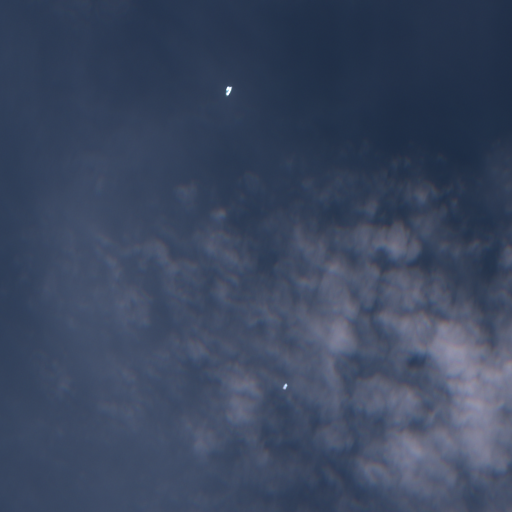Iceberg: (226, 86, 232, 95), (282, 383, 287, 389)
